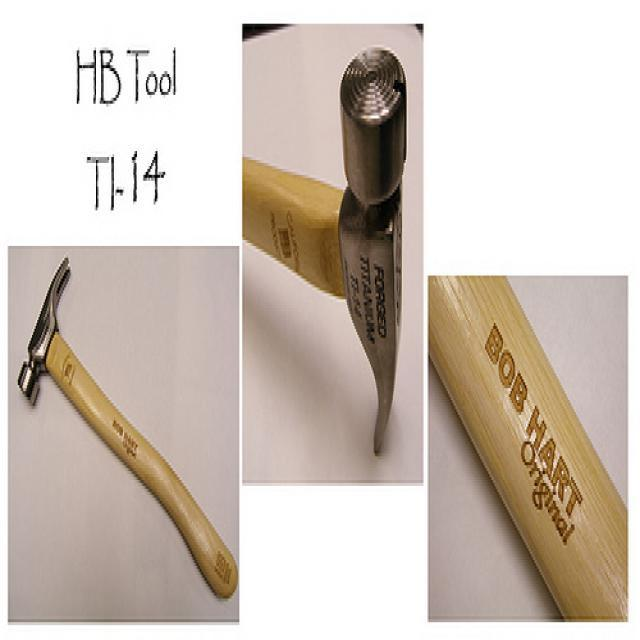hammer: (11, 251, 237, 611), (234, 41, 420, 452)
